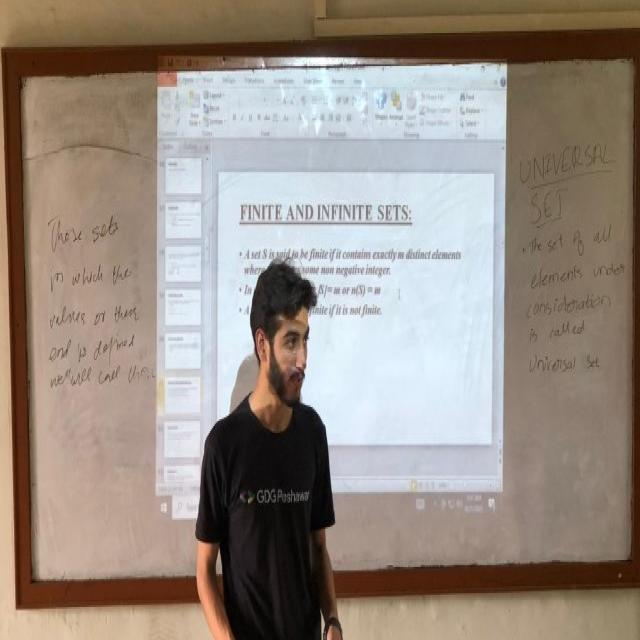Instructor: (195, 259, 328, 629)
Slide: (151, 56, 509, 528)
White-board: (12, 52, 640, 595)
